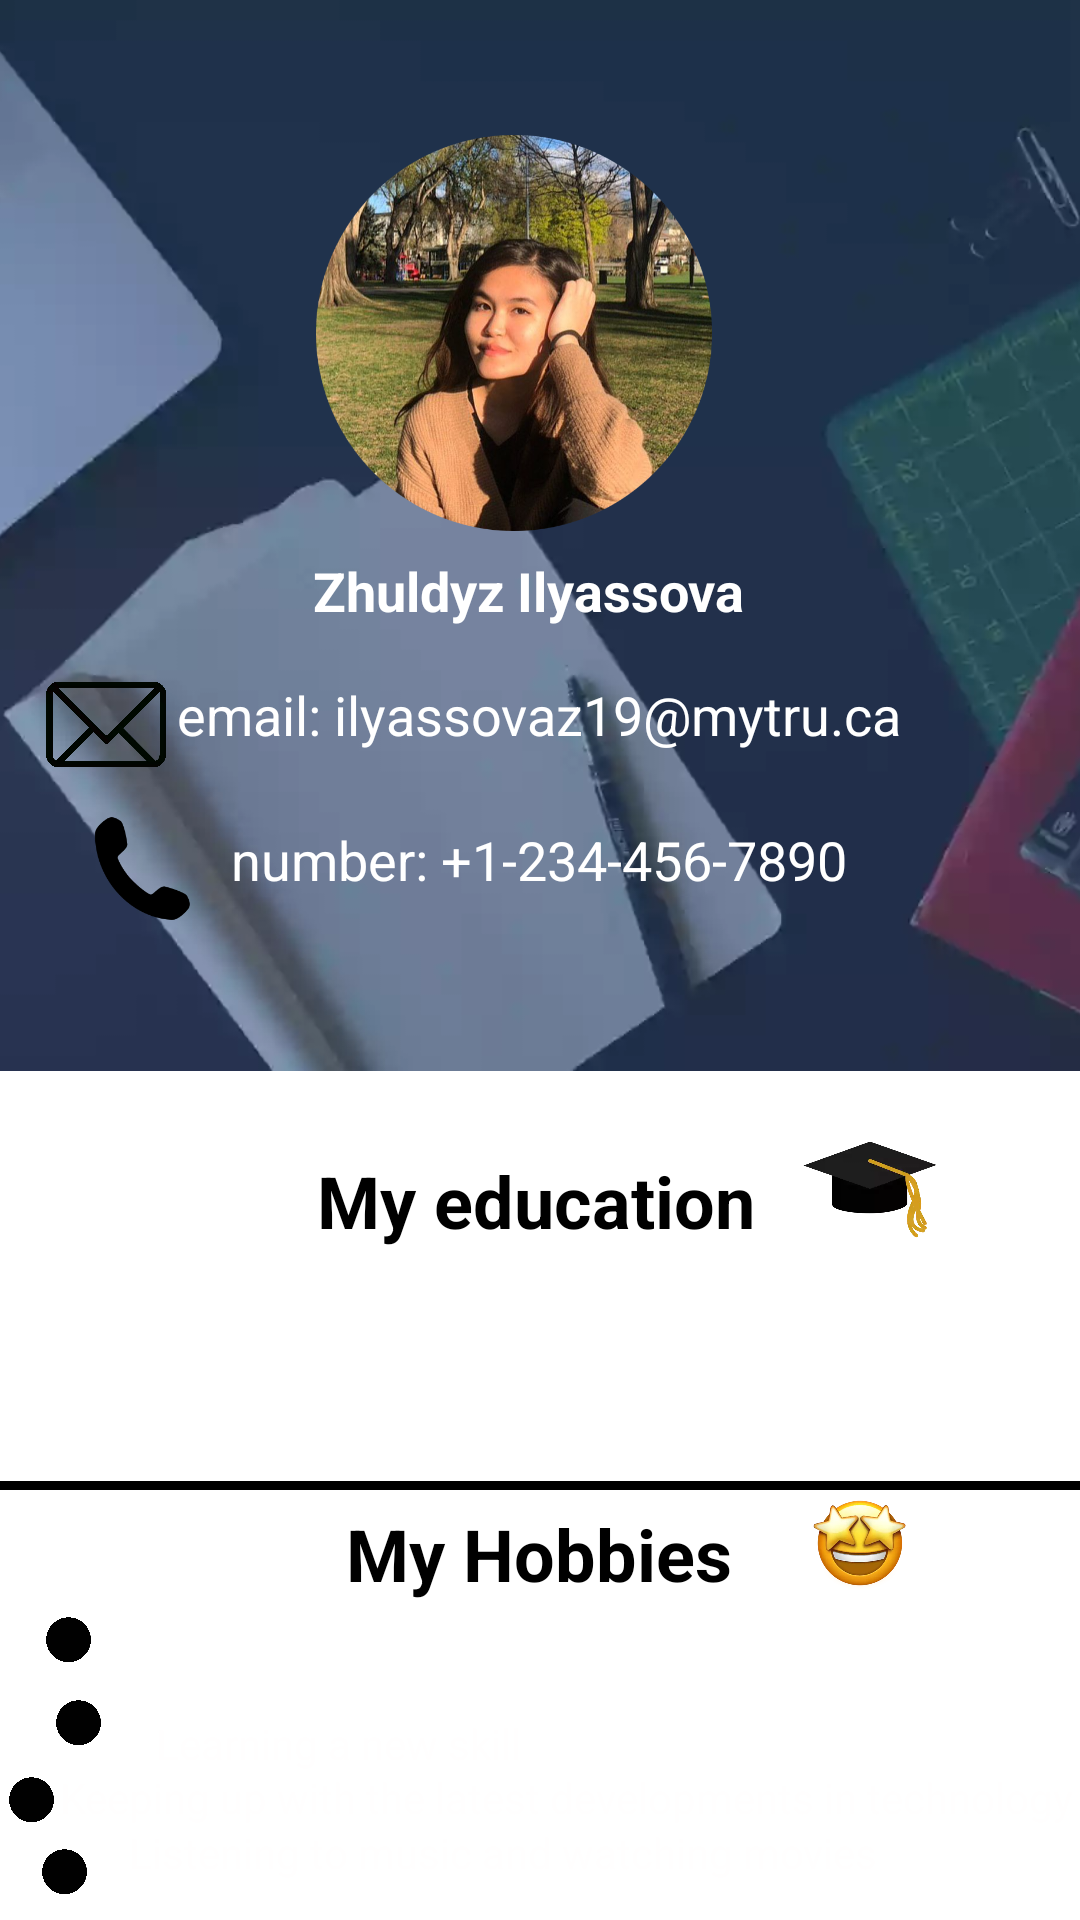

Icons on this 1080w x 1920h Android screen, each with its box as (x1, y1, x2, y2):
graduation cap clipart collection: (804, 1142, 936, 1238)
